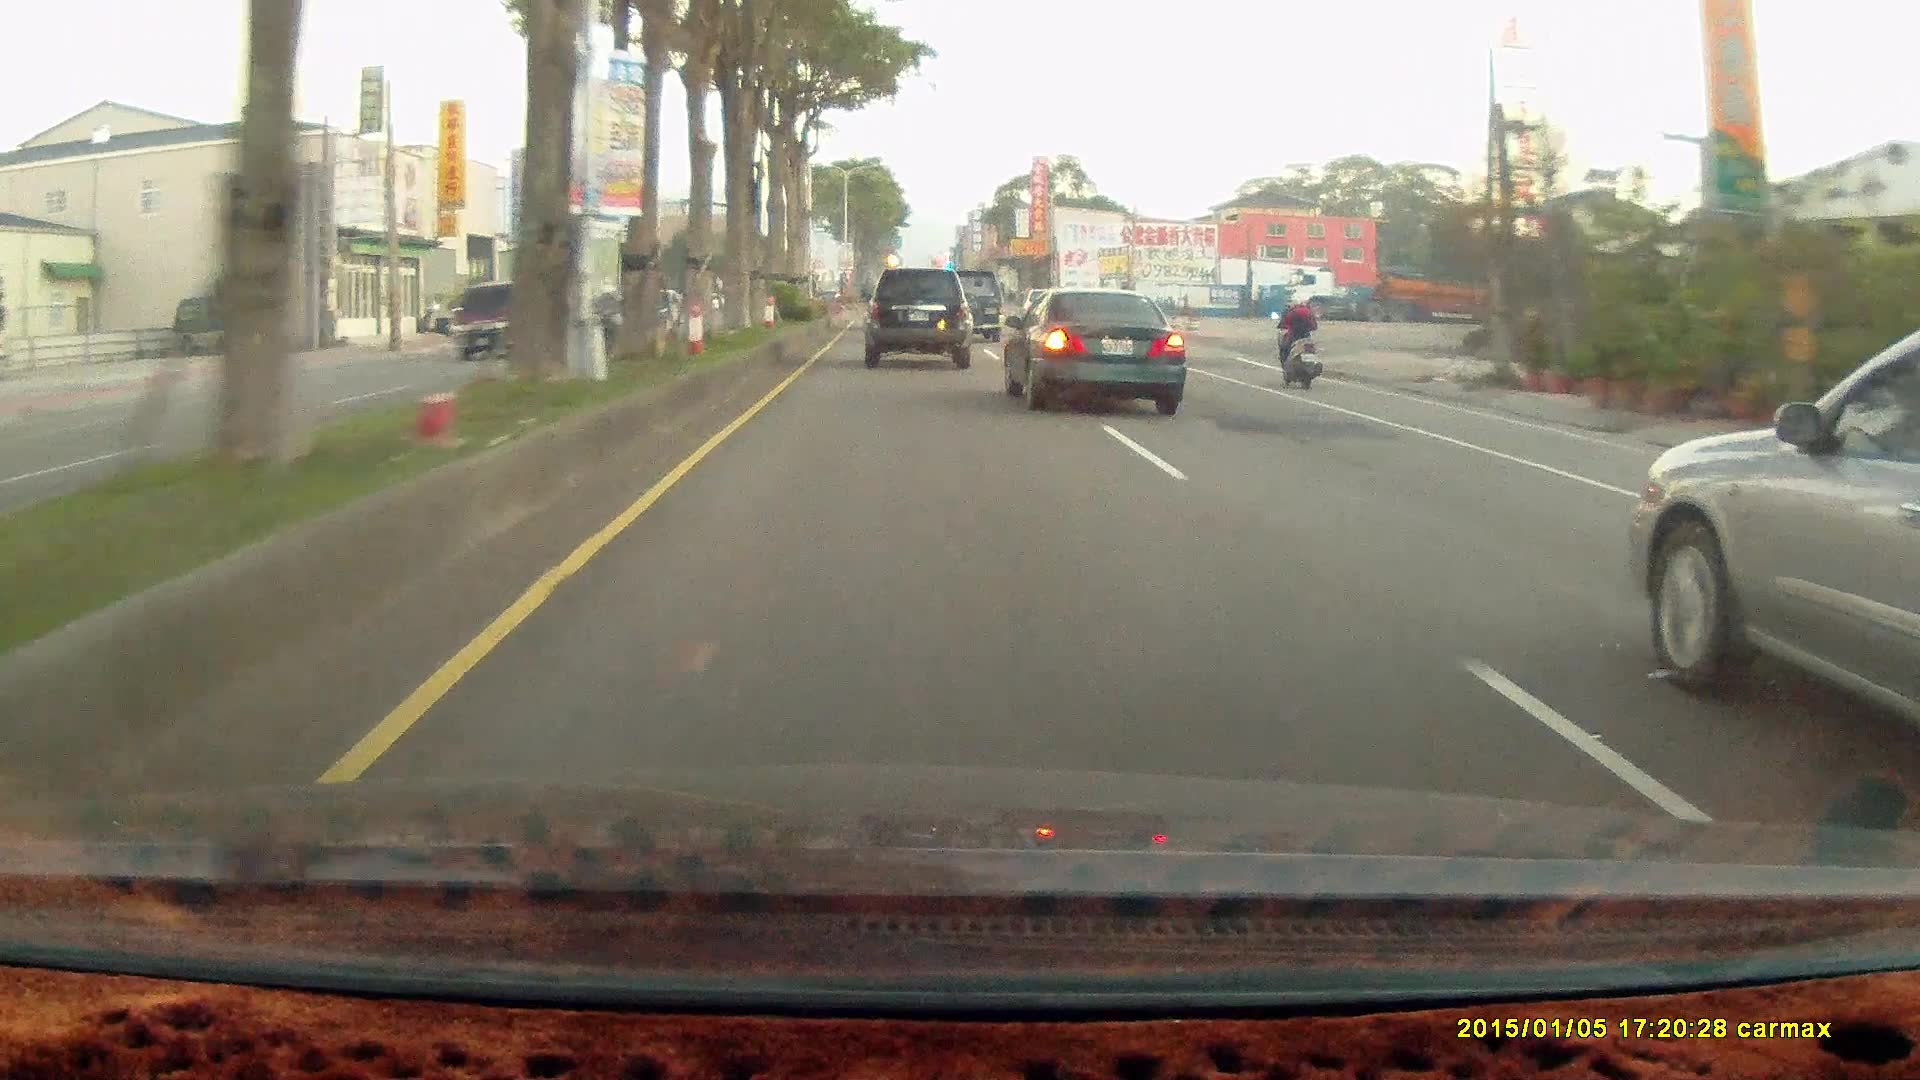rider: (1265, 284, 1331, 394), (1270, 288, 1324, 391)
vehicle: (1632, 328, 1918, 767), (1002, 289, 1191, 414), (1002, 285, 1185, 412), (1288, 265, 1534, 322), (864, 267, 976, 370), (859, 270, 972, 371), (448, 280, 544, 364), (171, 298, 279, 360), (171, 298, 279, 355), (939, 272, 1007, 347)
